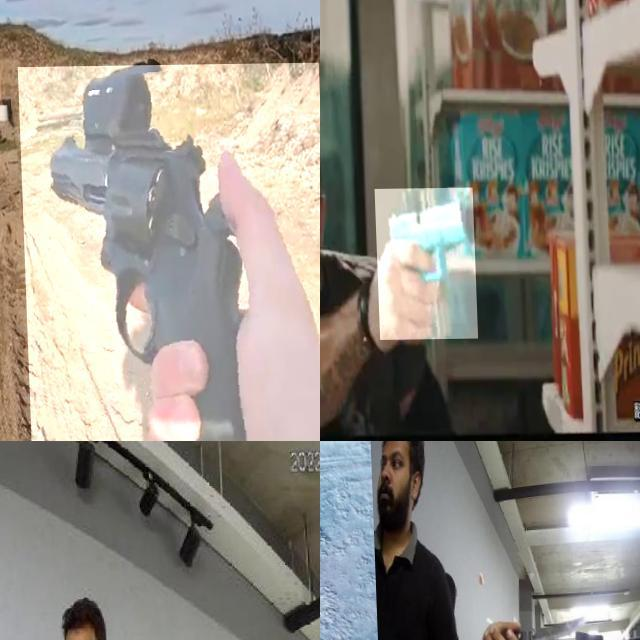-: (320, 441, 396, 640), (477, 441, 583, 582), (510, 620, 582, 640), (320, 441, 325, 459)
gun-knife-thesis - v11 Yolov5 augmented: (16, 64, 320, 441), (372, 189, 475, 341)
